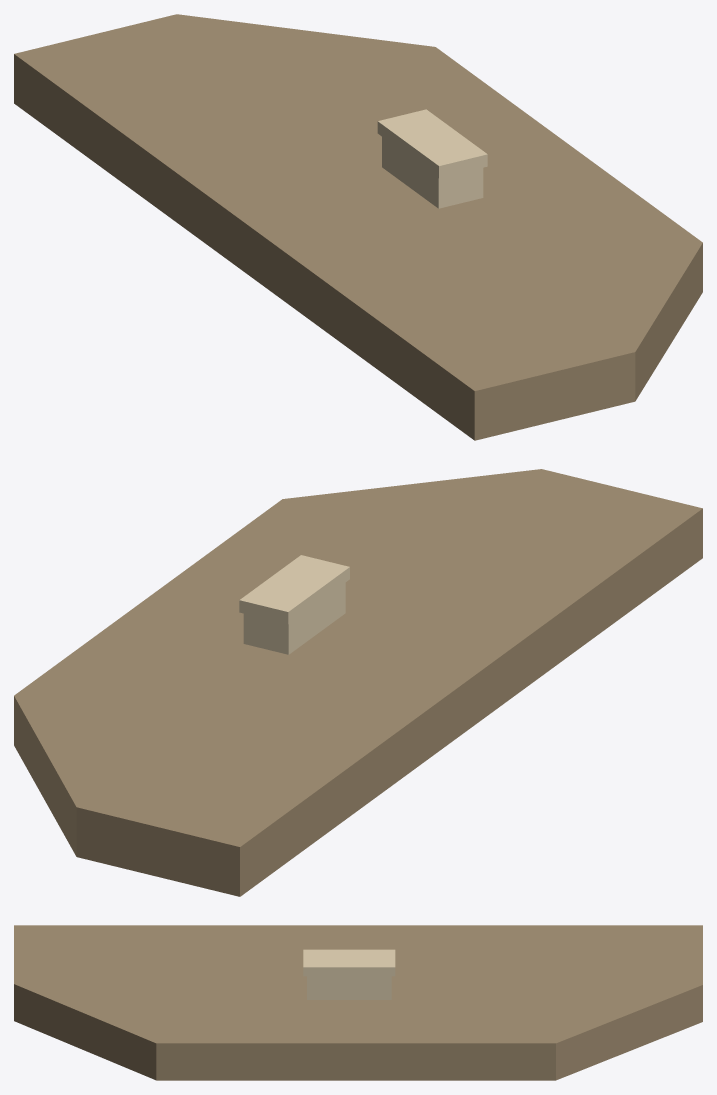
Rendered from president.fbx.
3 views of the same model, one above another, from view 1: azimuth 30°, elevation 25°; view 2: azimuth 150°, elevation 25°; view 3: azimuth 270°, elevation 25° (orthographic). The views are drawn at different scales.
Parts seen in each view (by area): view 1: Cube; view 2: Cube; view 3: Cube.
Part boxes in pixels (x1,y1,x2,y2): Cube: (14, 14, 702, 440); Cube: (14, 469, 702, 896); Cube: (14, 925, 702, 1080).
Size of the model in its own units: 176 by 49.2 by 435.
